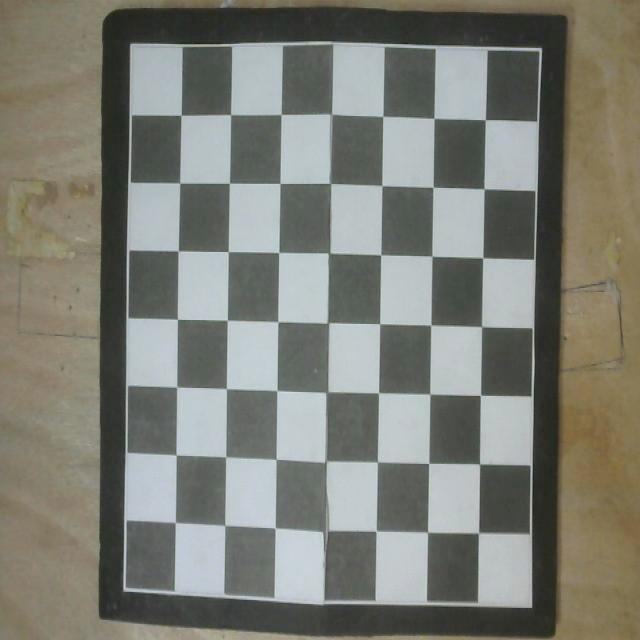chess-table-corners: (536, 44, 544, 56), (128, 40, 136, 51), (120, 582, 128, 592), (527, 602, 534, 610)
